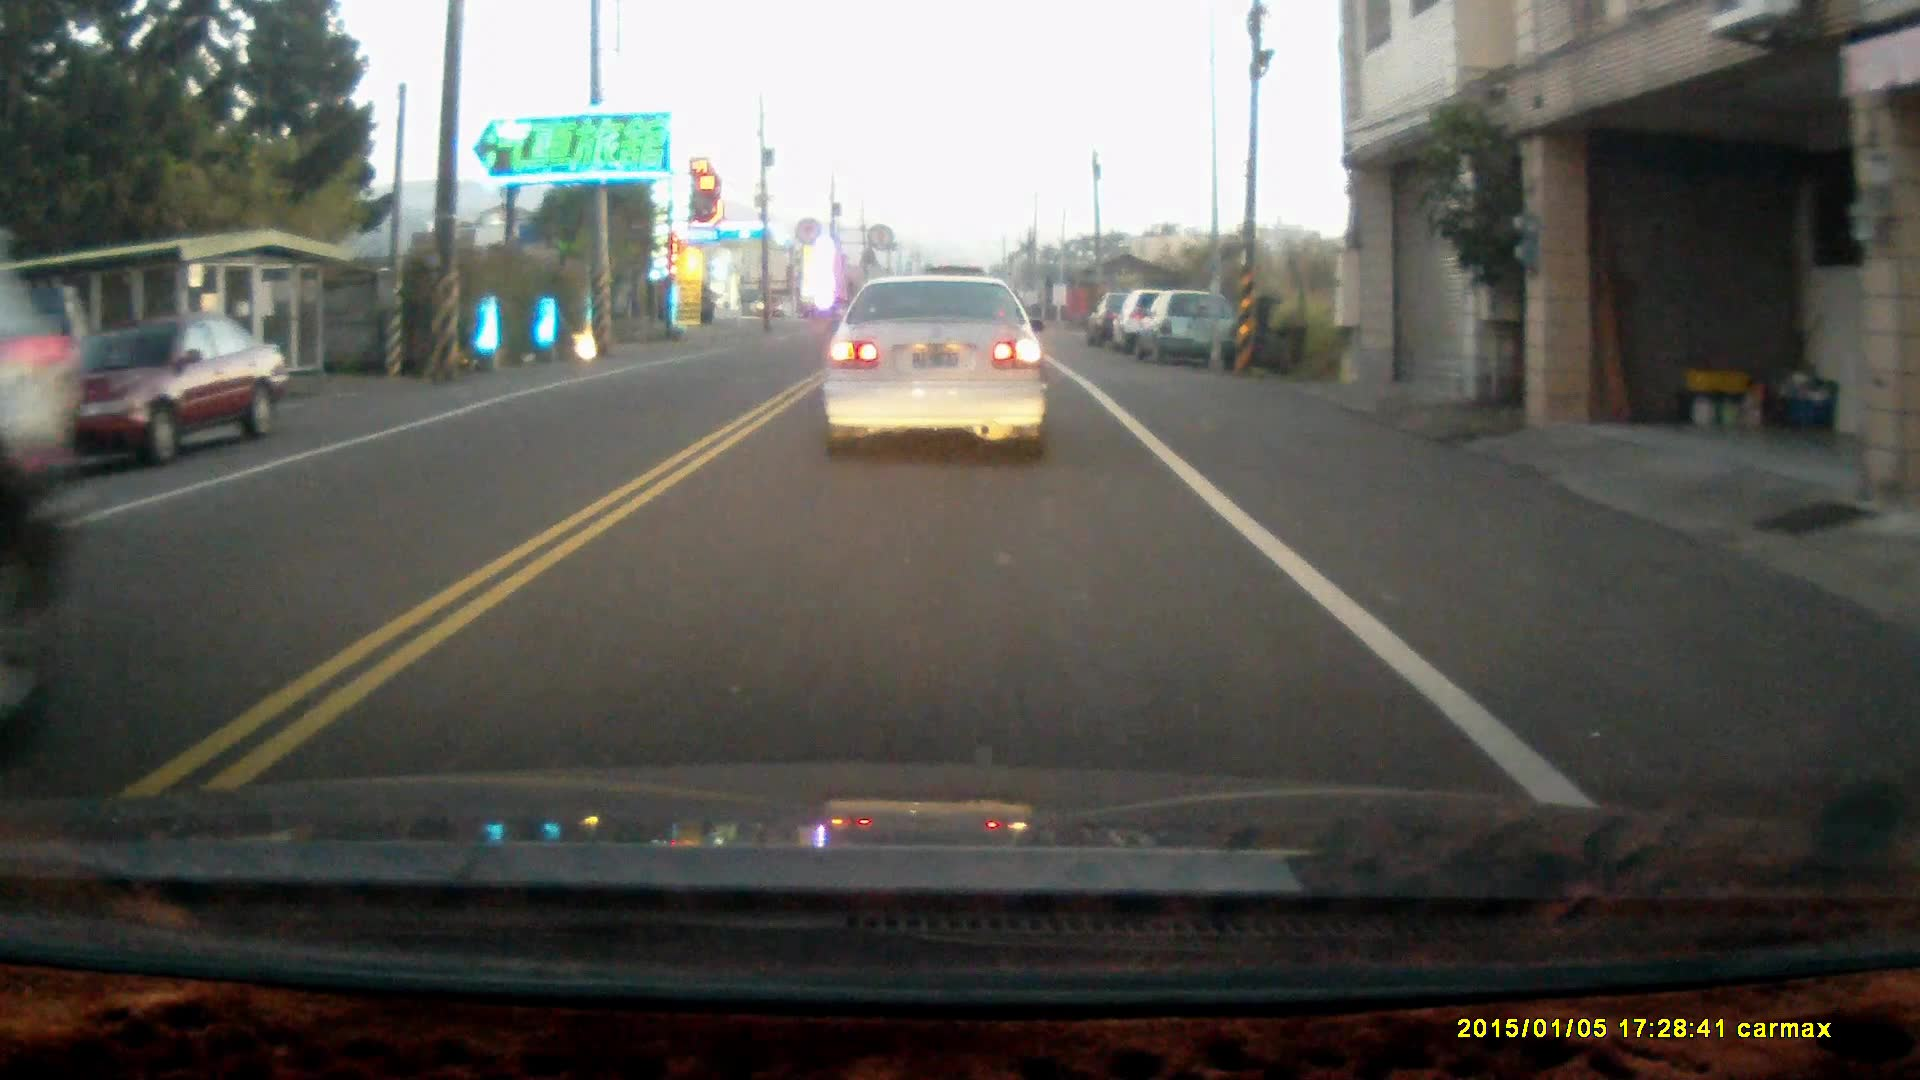vehicle: (1, 313, 289, 483), (819, 272, 1048, 462), (1133, 290, 1236, 365), (1116, 293, 1200, 357)
